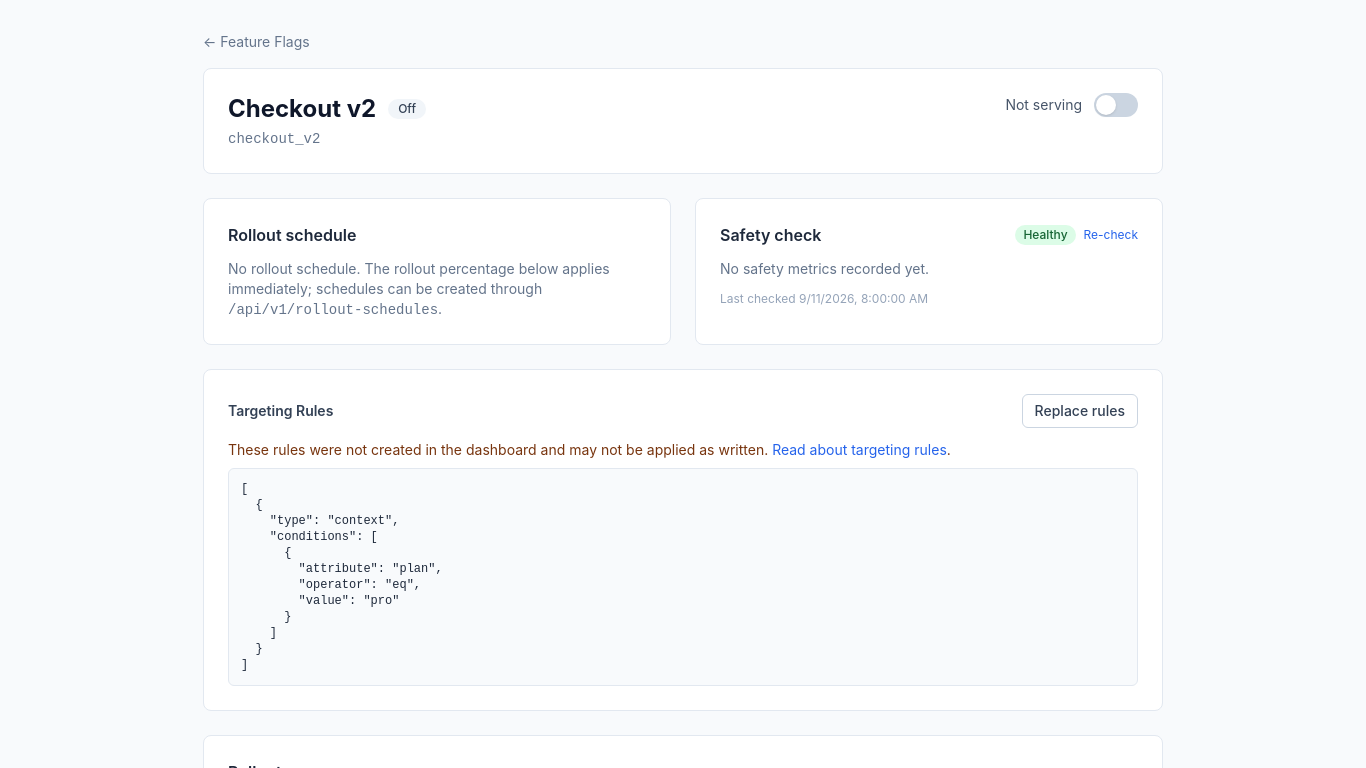
stored rules the builder cannot show › replace, then "Keep the stored rules" goes back to the read-only view
Click the button "Replace rules".
click(1080, 411)  # box [1022,394,1138,428]
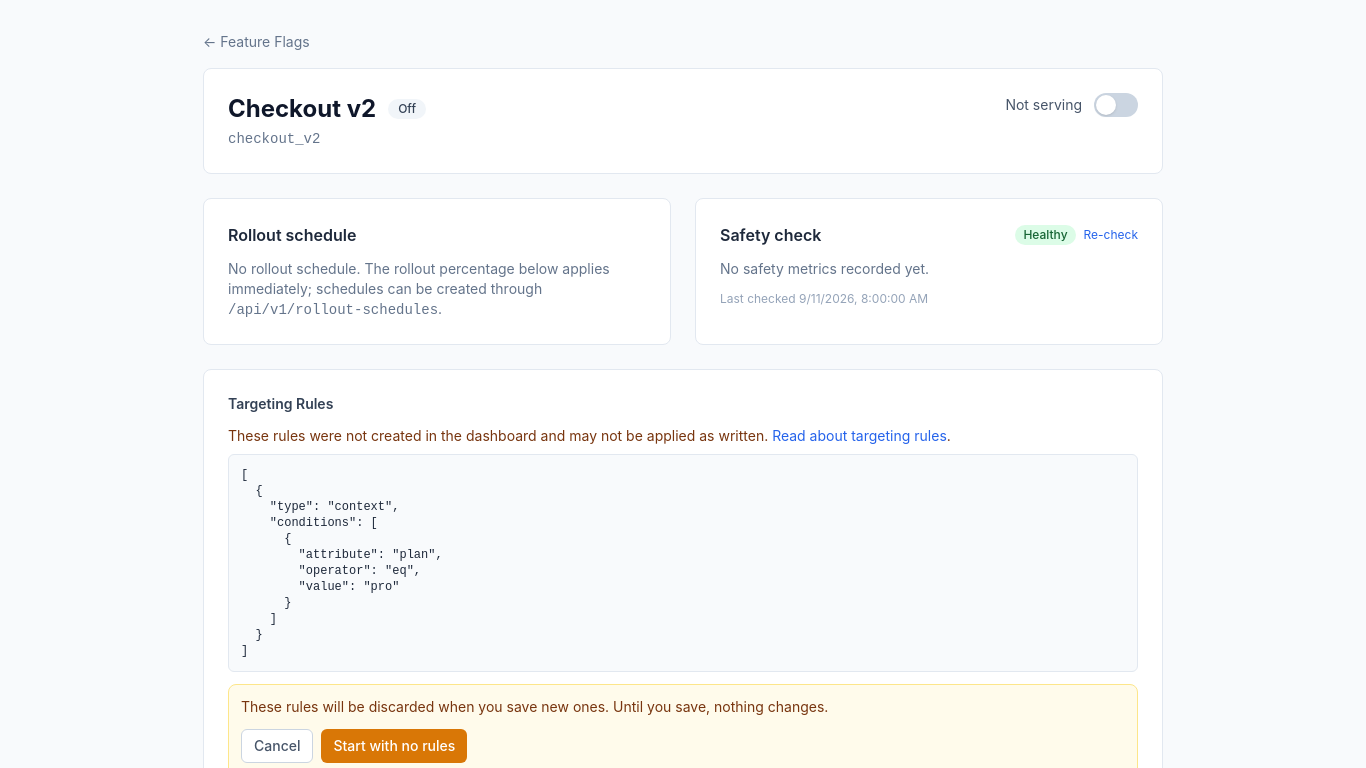
Click the button "Start with no rules".
click(394, 746)  # box [322,729,467,763]
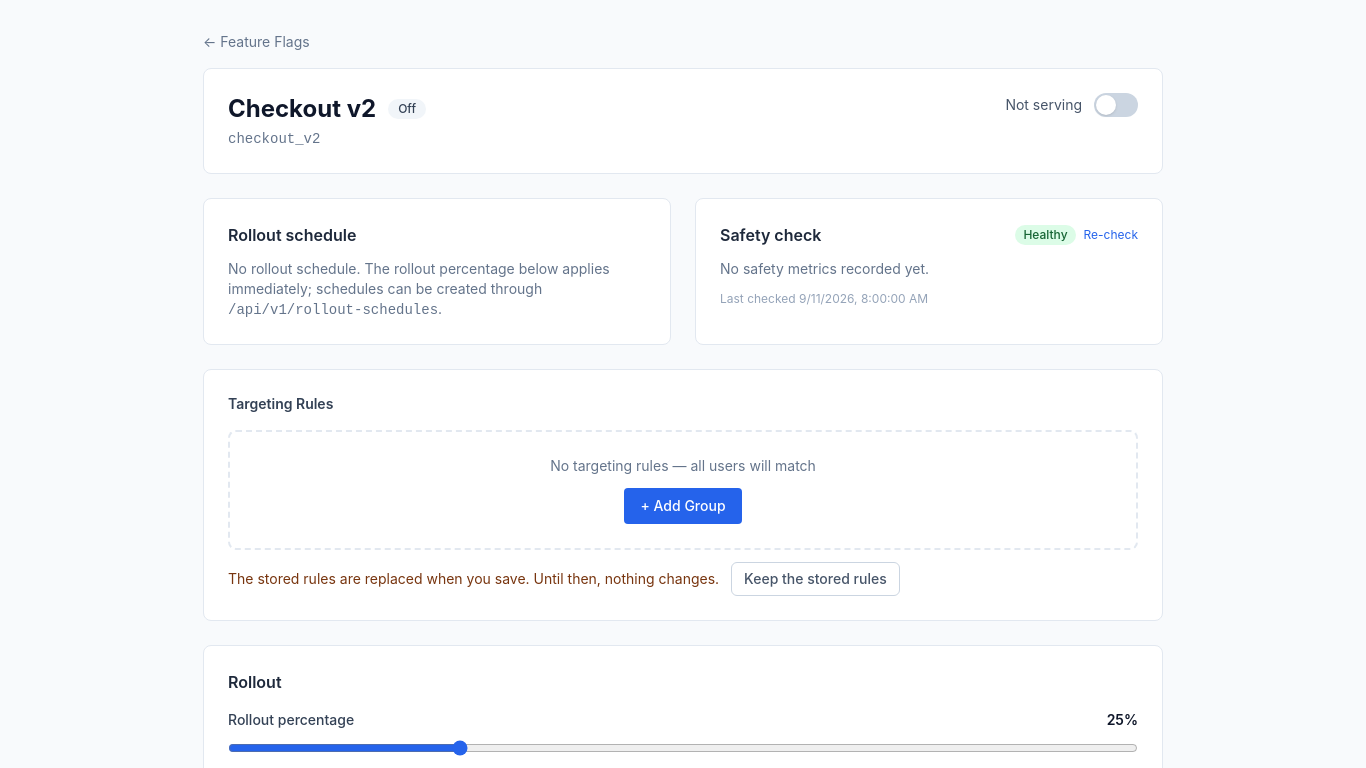
Click the button "Keep the stored rules".
click(815, 579)  # box [731,562,900,596]
(page scrolled)
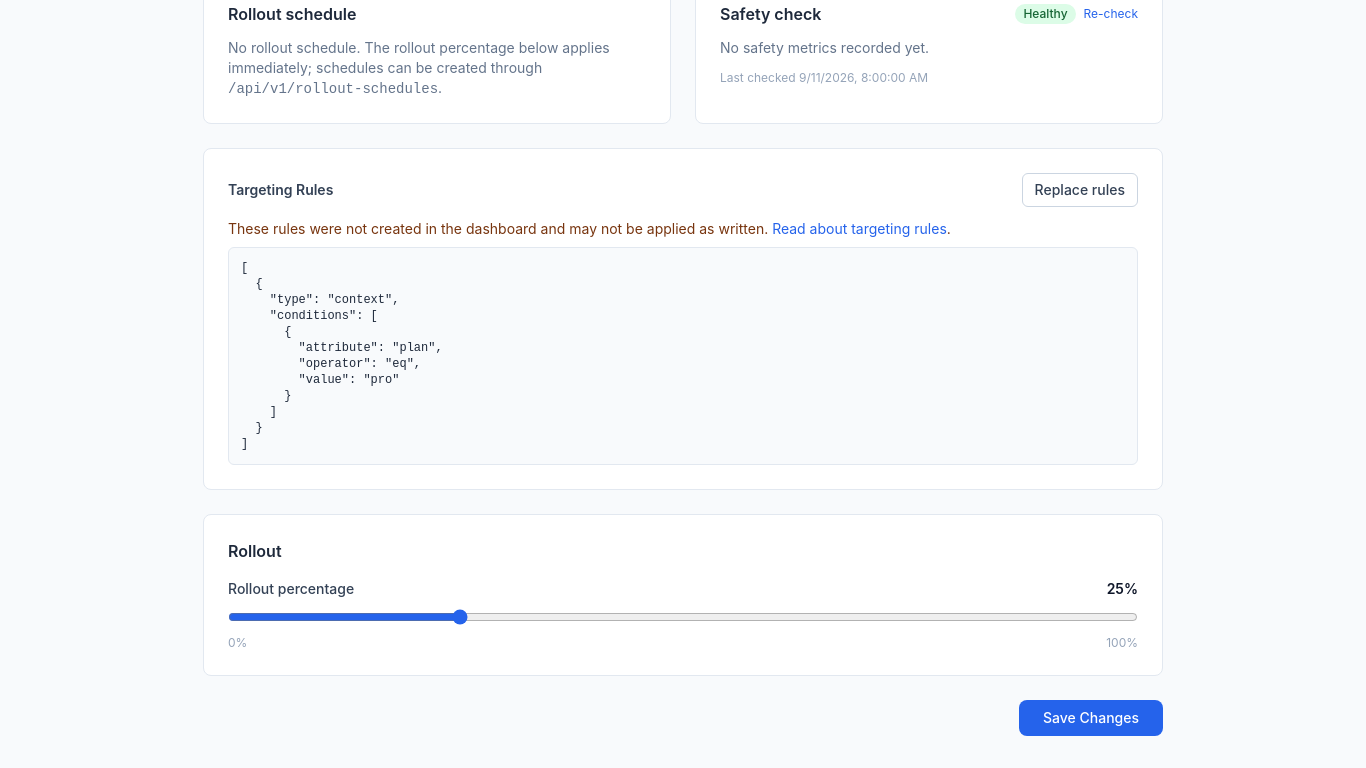
Expected: the element with test id "targeting-raw" is shown, [228,173,1138,465]
Set the slider with test id "rollout-percentage" to "35" at (549, 617), box [228,609,1138,625]
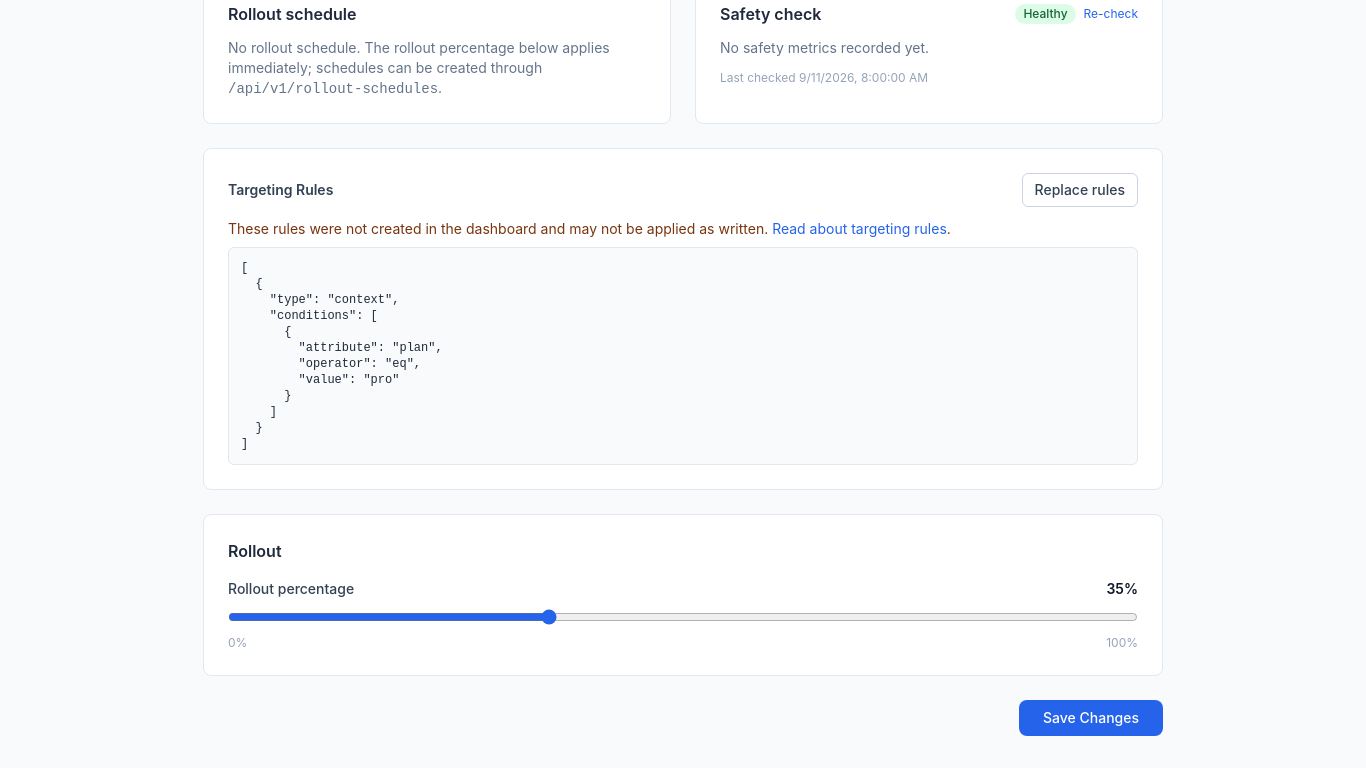
Click the button with test id "save-flag".
click(1091, 718)  # box [1019,700,1163,736]
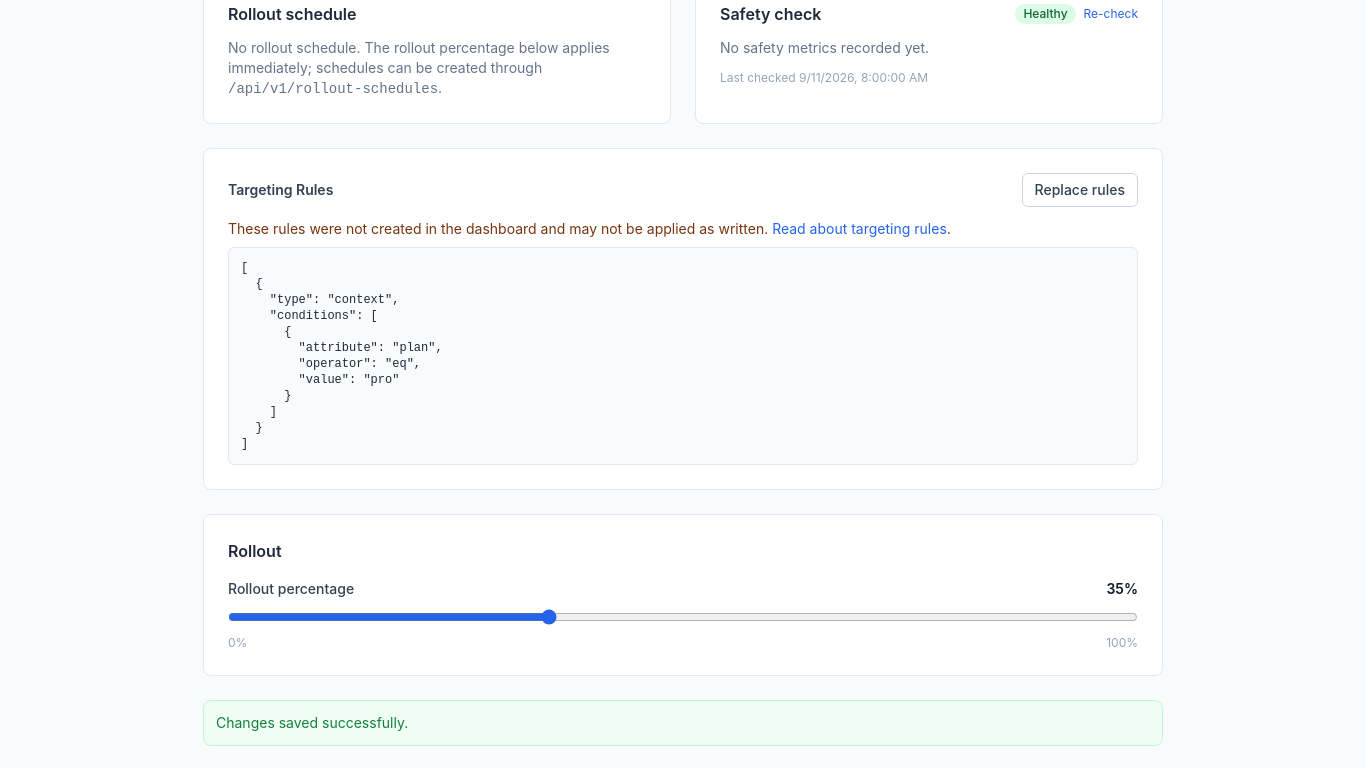
Expected: the message "Changes saved successfully." is shown, [203,700,1163,746]
